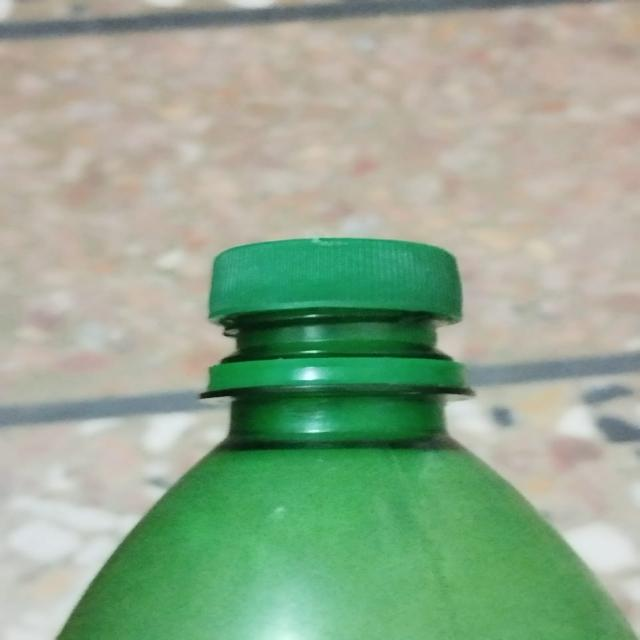cap: (202, 235, 471, 388)
